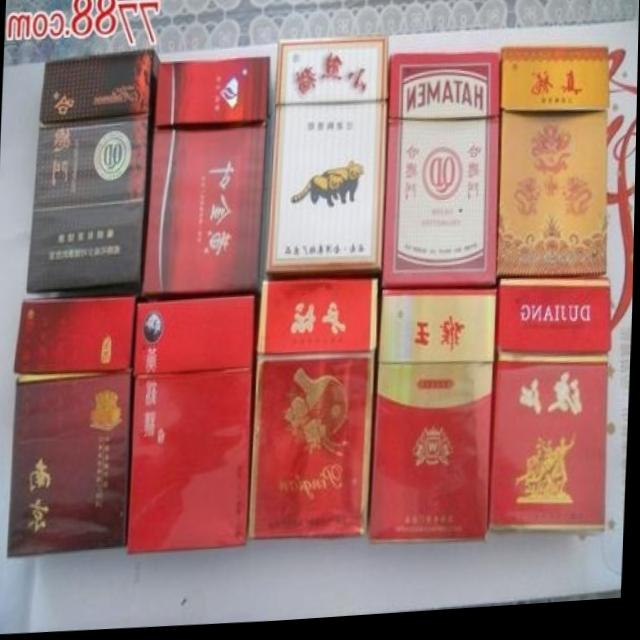box: (368, 295, 500, 549), (250, 284, 379, 543), (9, 298, 136, 557), (129, 299, 256, 556), (27, 52, 159, 294), (142, 60, 272, 302), (492, 285, 613, 538), (268, 40, 389, 280), (382, 59, 501, 293), (498, 55, 610, 284)
